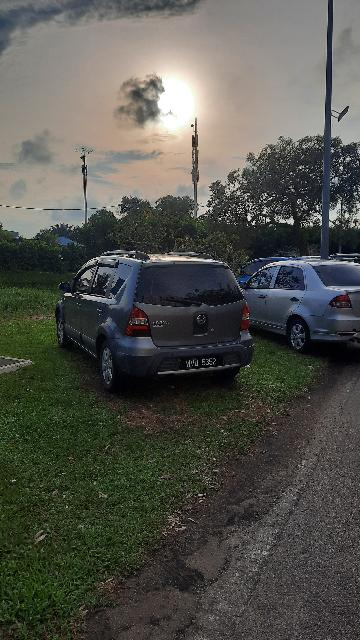License_Plate: (178, 352, 226, 370)
car: (50, 247, 259, 391), (239, 257, 360, 352)
